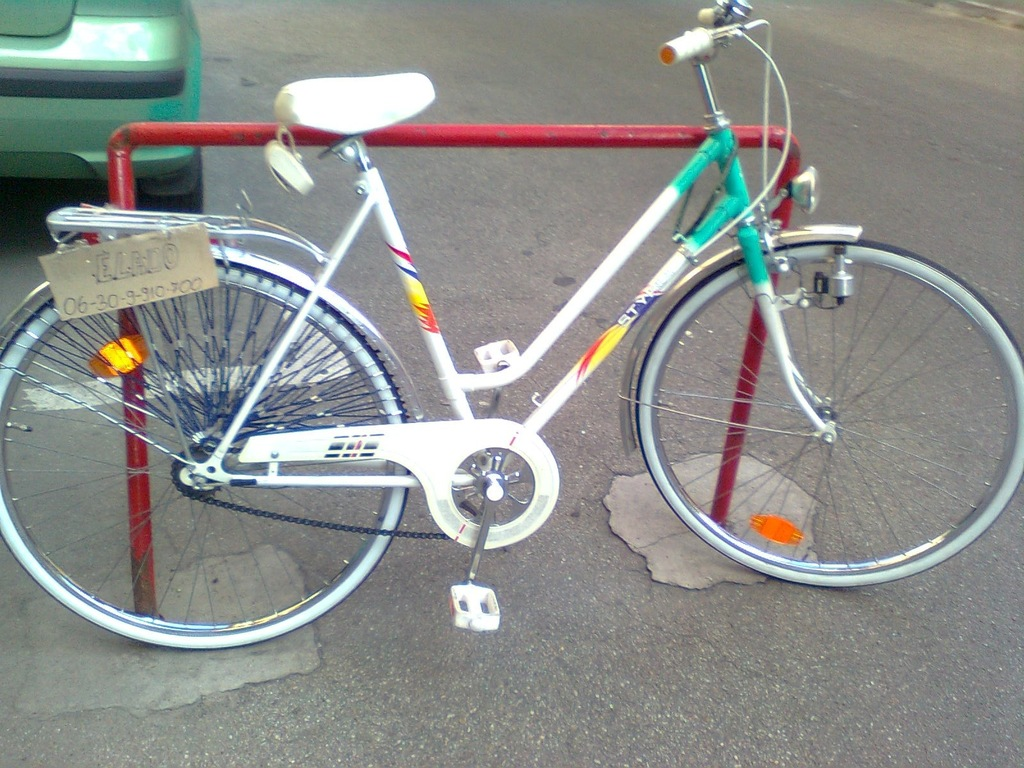Bike: (59, 17, 1016, 658)
